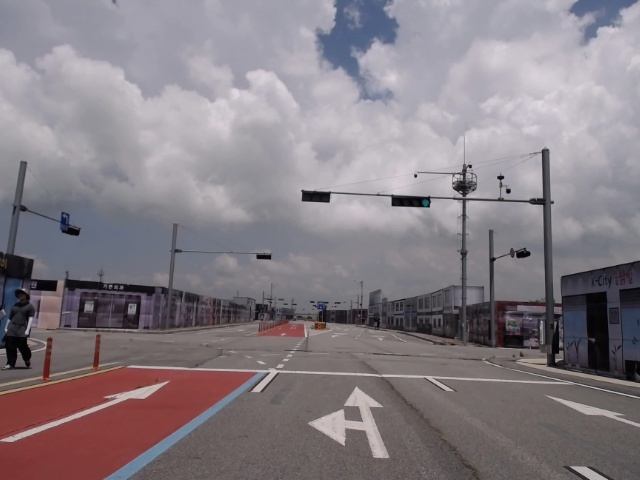straight_green_4: (390, 195, 431, 208)
